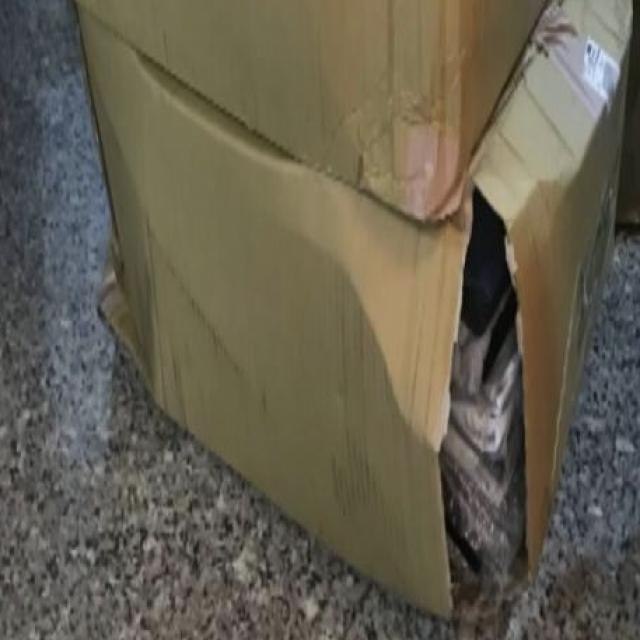hole: (434, 181, 543, 615)
